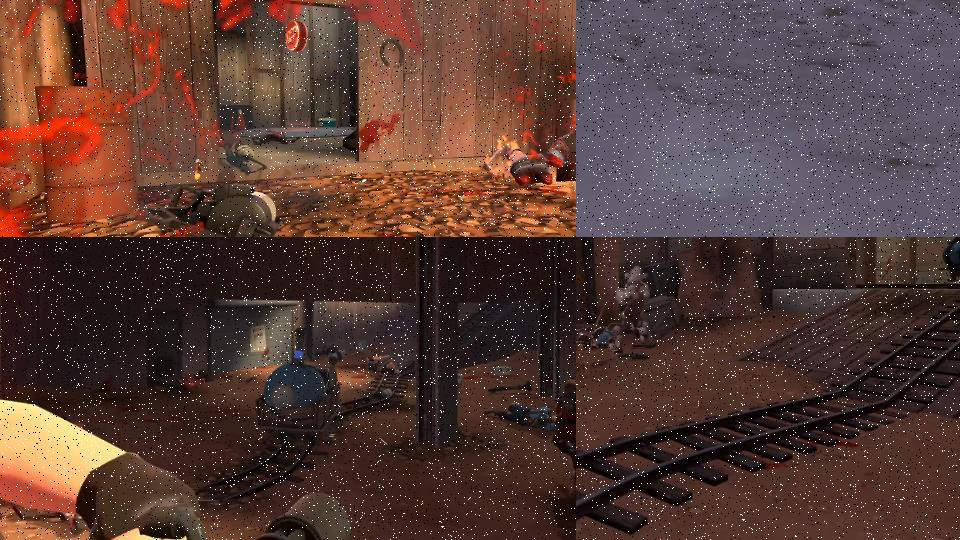Enemy: (545, 376, 576, 485), (481, 396, 557, 437), (616, 268, 652, 347), (588, 320, 624, 356), (576, 320, 591, 354)
